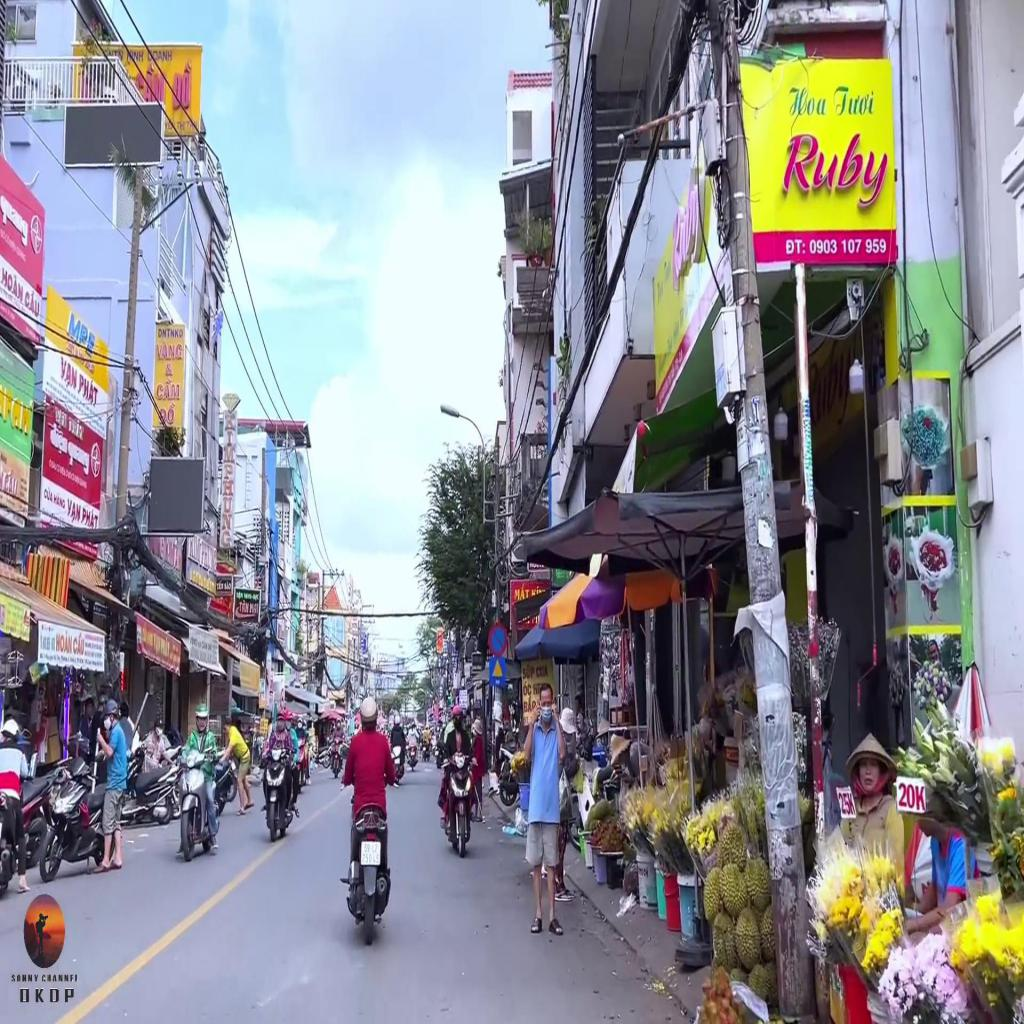cam_do_xe: (488, 623, 507, 655)
cho: (489, 656, 506, 687)
